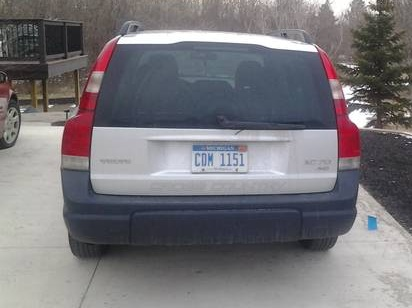volvo: (44, 17, 394, 263)
